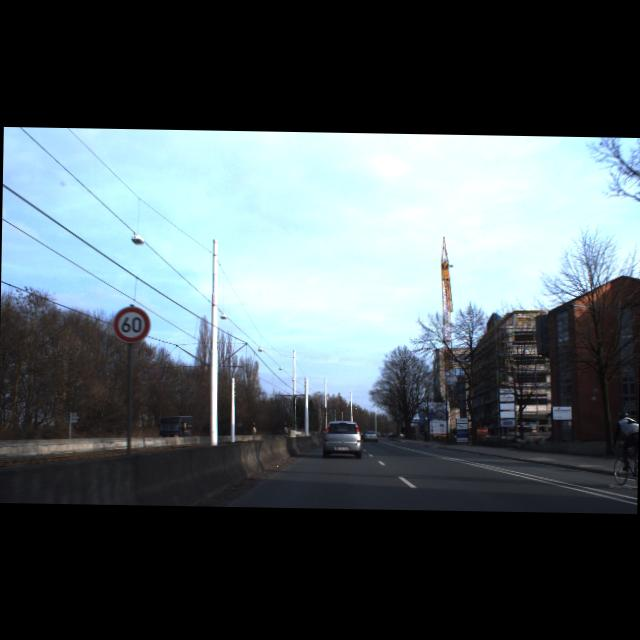prohibitory: (112, 305, 150, 342)
